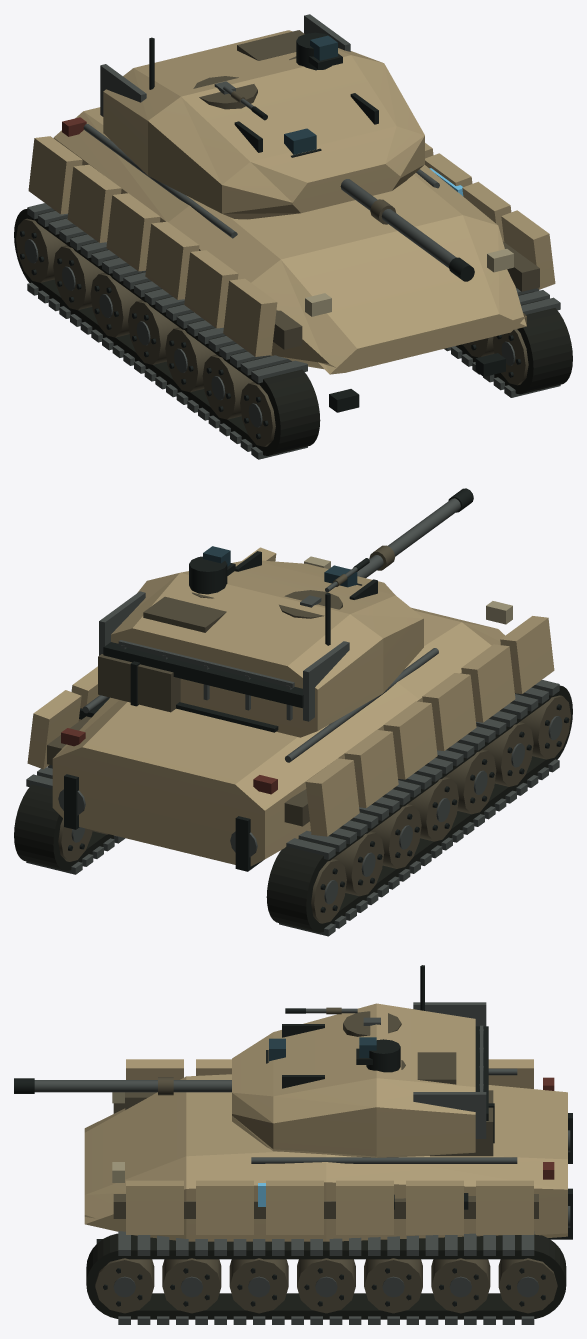
File: lightTank.glb
3 renders of one model, top to bottom at view 1: azimuth 30°, elevation 25°; view 2: azimuth 150°, elevation 25°; view 3: azimuth 270°, elevation 25°, orthographic. The views are drawn at different scales.
Visible parts, largest first — view 1: armor (×2), equipment (×3), glass; view 2: armor (×2), equipment (×3), glass; view 3: armor (×2), equipment (×4), glass.
Boxes of the visible parts, x1,y1,x2,y2 form: armor (×2): [28, 30, 555, 374]; equipment (×3): [14, 14, 572, 459]; glass: [284, 35, 337, 154]; armor (×2): [27, 547, 554, 866]; equipment (×3): [14, 488, 572, 936]; glass: [203, 546, 357, 587]; armor (×2): [84, 1003, 567, 1241]; equipment (×4): [14, 965, 572, 1324]; glass: [269, 1037, 376, 1061].
Size of the model in its own units: 3.01 by 2.66 by 5.32.
